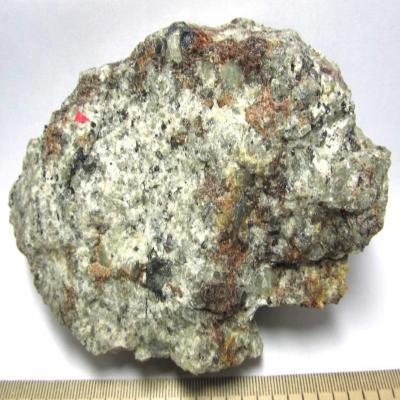natural_science_collection: (8, 18, 391, 378)
